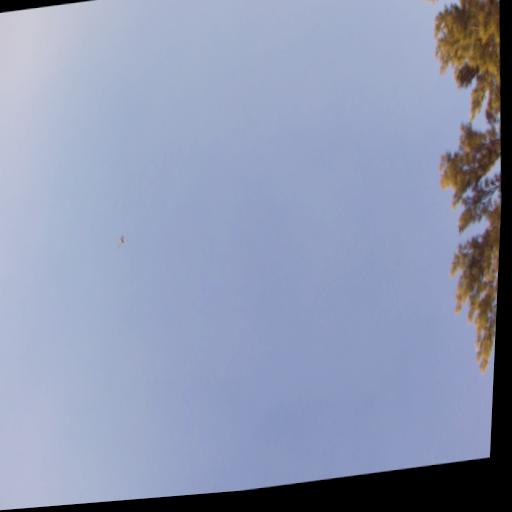drones: (115, 232, 129, 251)
